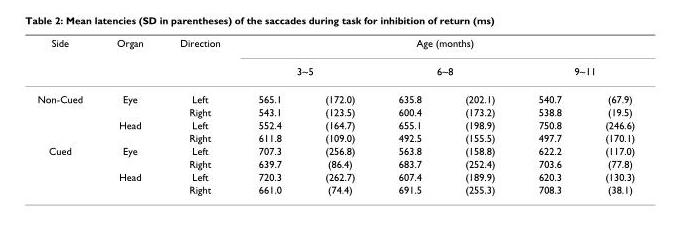table: (36, 36, 634, 195)
table column: (160, 36, 238, 195), (302, 36, 376, 195), (442, 36, 516, 195), (376, 36, 442, 195), (516, 36, 582, 195), (238, 36, 302, 195), (36, 36, 98, 195), (98, 36, 160, 195), (582, 36, 634, 195)
table column header: (36, 36, 634, 105)
table row: (36, 56, 634, 84), (36, 84, 634, 105), (36, 36, 634, 56), (36, 105, 634, 118), (36, 118, 634, 131), (36, 131, 634, 144), (36, 156, 634, 169), (36, 169, 634, 182), (36, 182, 634, 195), (36, 144, 634, 156)
table spanning cell: (238, 36, 634, 56), (160, 36, 238, 105), (36, 36, 98, 105), (98, 36, 160, 105), (376, 56, 516, 84), (238, 56, 376, 84), (516, 56, 634, 84), (36, 144, 98, 195)
